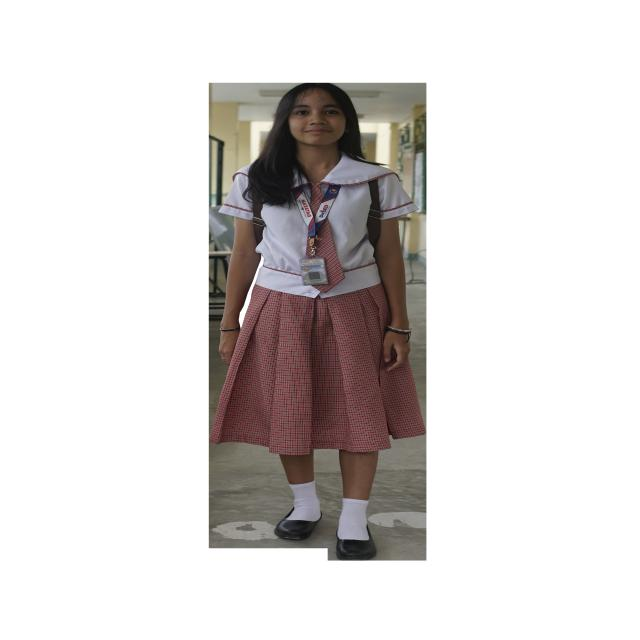id lace: (293, 184, 341, 239)
pologirl: (255, 154, 417, 297), (220, 164, 253, 220)
shoes: (274, 509, 322, 540), (336, 525, 377, 560)
skirt: (210, 284, 425, 455)
